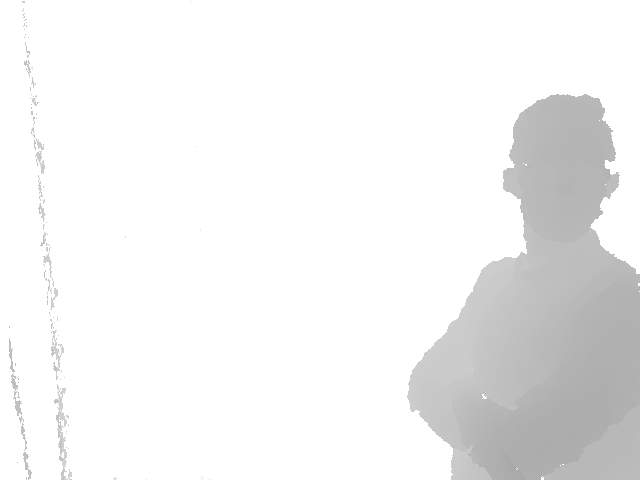head: (502, 94, 620, 245)
person: (406, 93, 640, 480)
